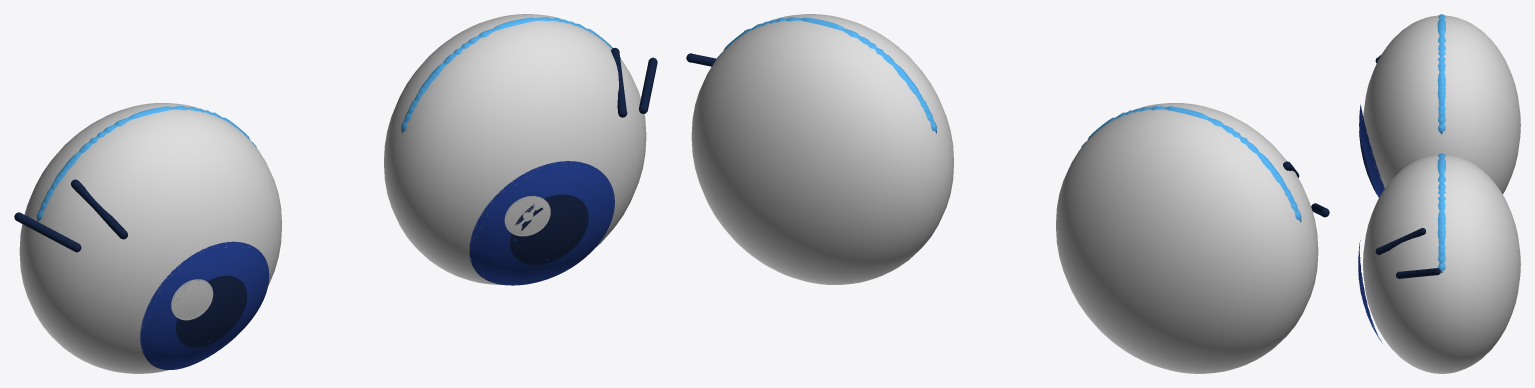
The model's file is eyes-big.glb.
3 views of the same model, side by side, from view 1: azimuth 30°, elevation 25°; view 2: azimuth 150°, elevation 25°; view 3: azimuth 270°, elevation 25° (orthographic). The views are drawn at different scales.
Parts seen in each view (by area): view 1: eyes_0_ball, eyes_6_ball, eyes_7_paint, eyes_1_paint, eyes_8_paint, eyes_2_paint, eyes_5_line, eyes_9_paint, eyes_3_paint, eyes_4_solid, eyes_10_solid, eyes_11_line; view 2: eyes_6_ball, eyes_0_ball, eyes_4_solid, eyes_10_solid; view 3: eyes_6_ball, eyes_0_ball, eyes_4_solid, eyes_10_solid, eyes_1_paint, eyes_11_line, eyes_7_paint, eyes_2_paint.
Part boxes in pixels (left/top/right/bottom): eyes_0_ball: left=19, top=103, right=281, bottom=373; eyes_6_ball: left=384, top=14, right=646, bottom=284; eyes_7_paint: left=469, top=161, right=614, bottom=285; eyes_1_paint: left=140, top=241, right=269, bottom=369; eyes_8_paint: left=510, top=194, right=588, bottom=265; eyes_2_paint: left=176, top=275, right=246, bottom=347; eyes_5_line: left=14, top=179, right=127, bottom=252; eyes_9_paint: left=504, top=196, right=550, bottom=236; eyes_3_paint: left=171, top=279, right=213, bottom=320; eyes_4_solid: left=36, top=106, right=256, bottom=221; eyes_10_solid: left=401, top=17, right=620, bottom=133; eyes_11_line: left=611, top=48, right=657, bottom=117; eyes_6_ball: left=691, top=14, right=953, bottom=284; eyes_0_ball: left=1056, top=103, right=1318, bottom=373; eyes_4_solid: left=1081, top=106, right=1301, bottom=221; eyes_10_solid: left=717, top=17, right=936, bottom=133; eyes_6_ball: left=1363, top=154, right=1520, bottom=373; eyes_0_ball: left=1363, top=15, right=1520, bottom=194; eyes_4_solid: left=1437, top=14, right=1445, bottom=134; eyes_10_solid: left=1437, top=153, right=1445, bottom=273; eyes_1_paint: left=1359, top=104, right=1384, bottom=197; eyes_11_line: left=1375, top=228, right=1440, bottom=278; eyes_7_paint: left=1358, top=240, right=1382, bottom=343; eyes_2_paint: left=1359, top=132, right=1376, bottom=193.
Size of the model in its own units: 0.7616 by 0.2901 by 0.2136.
